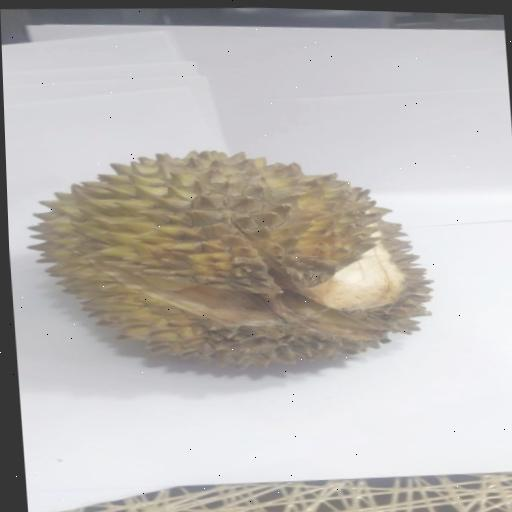rot: (5, 129, 483, 399)
